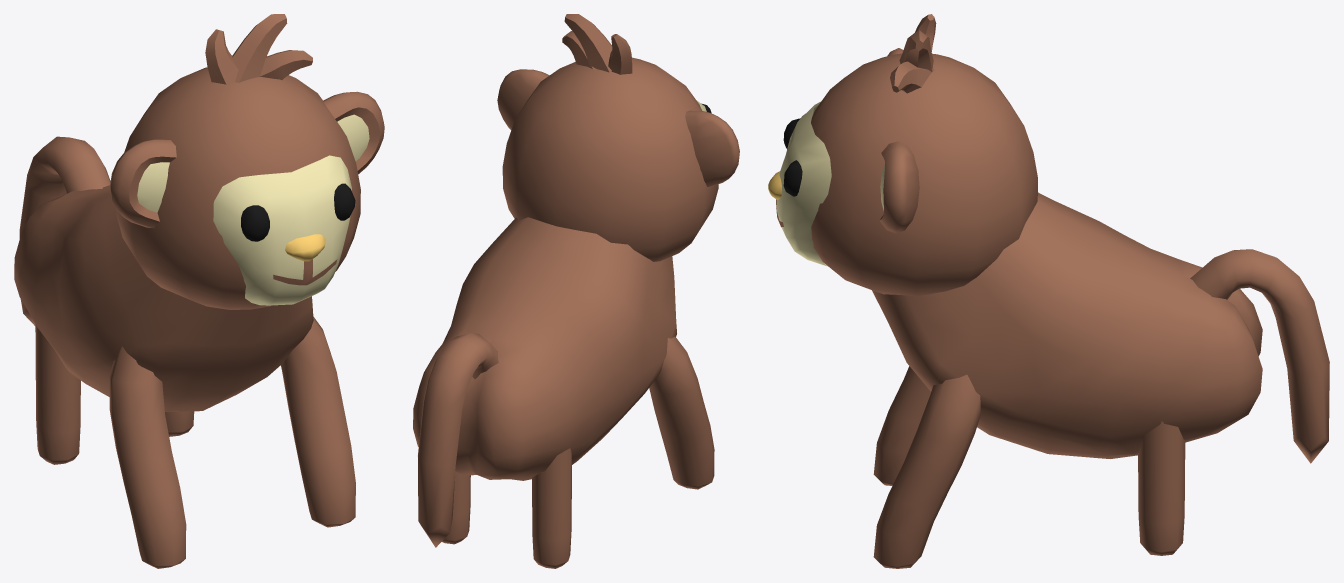
Rendered from Monkey.fbx.
3 views of the same model, side by side, from view 1: azimuth 30°, elevation 25°; view 2: azimuth 150°, elevation 25°; view 3: azimuth 270°, elevation 25° (orthographic). The views are drawn at different scales.
Visible parts, largest first — view 1: Monkey; view 2: Monkey; view 3: Monkey.
Part boxes in pixels (x1=…): Monkey: x1=14, y1=14, x2=384, y2=568; Monkey: x1=413, y1=14, x2=739, y2=568; Monkey: x1=768, y1=14, x2=1329, y2=568.
Size of the model in its own units: 123 by 220 by 220.
